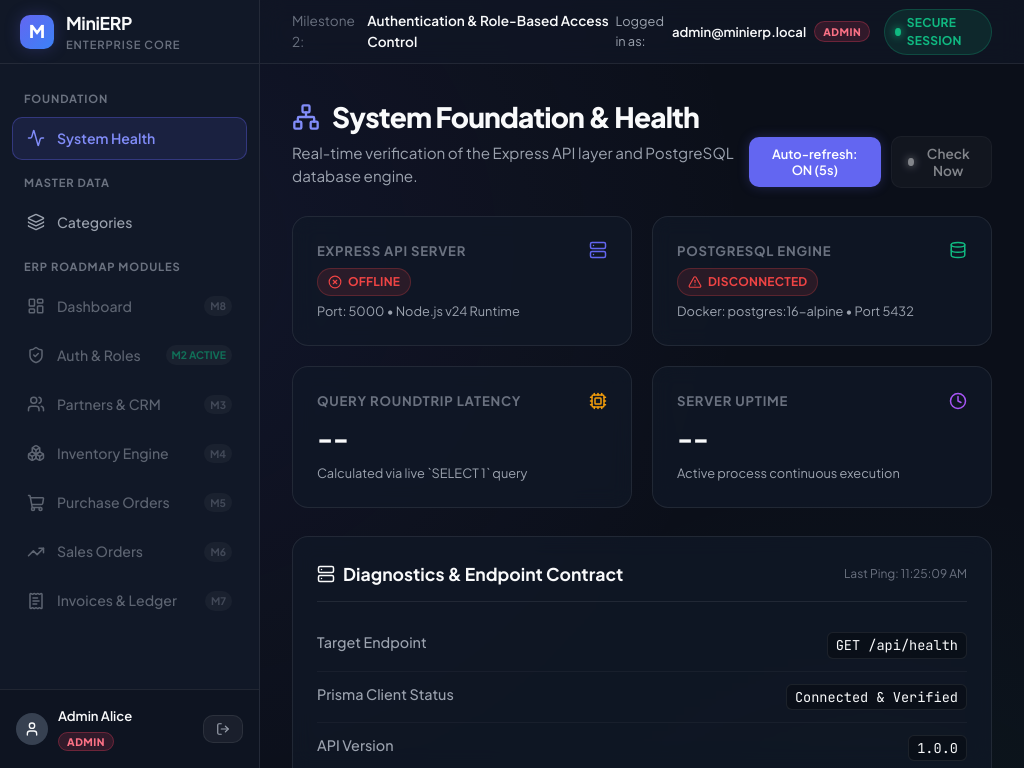
Test: Frontend Authentication Flow › 7. Handles logout failure gracefully without claiming session ended
The image size is (1024, 768).
expect the text "Admin Alice" is shown: met, box [58, 706, 132, 726]
Click the button named "Sign out": (223, 729) [203, 715, 243, 743]
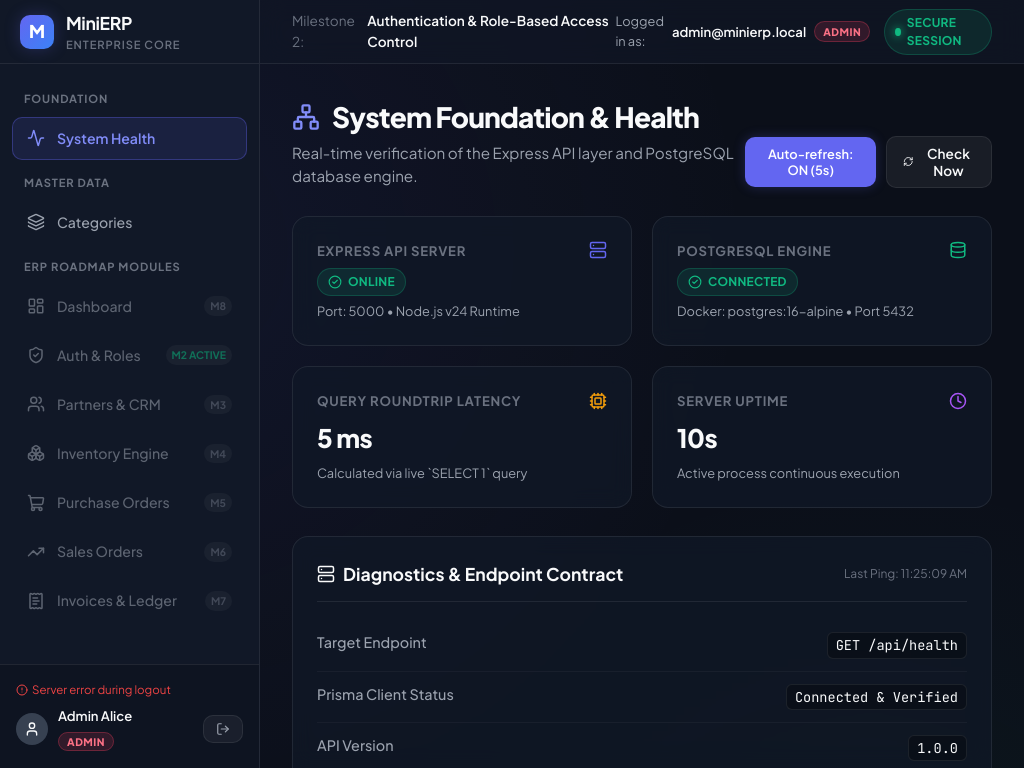
expect the text "Admin Alice" is shown: met, box [58, 706, 132, 726]
expect the message reads "Server error during logout": met, box [32, 682, 171, 697]
